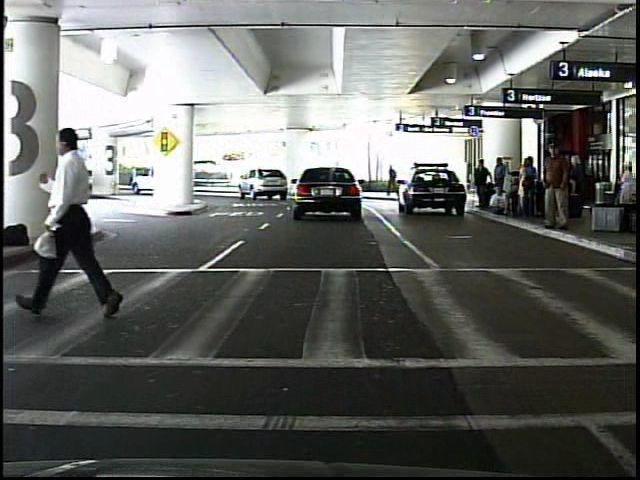person: (32, 125, 140, 318), (538, 141, 575, 235), (473, 159, 492, 211), (388, 164, 401, 198), (128, 164, 139, 189)
